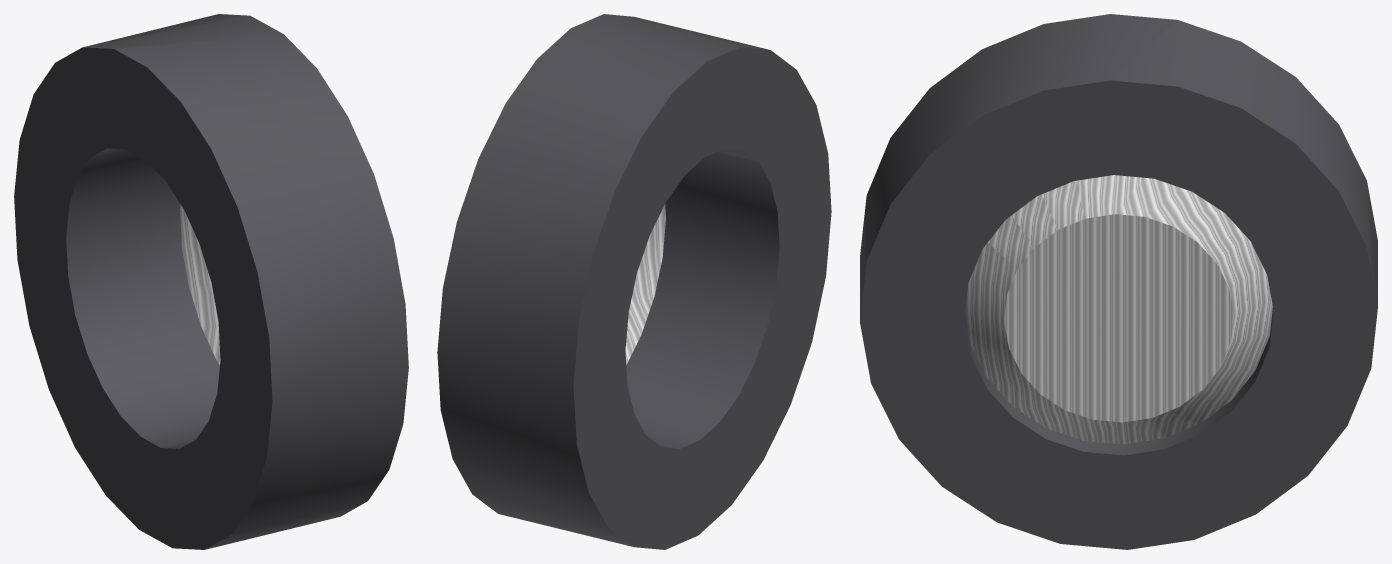
File: llanta2.obj
3 renders of one model, left to right at view 1: azimuth 30°, elevation 25°; view 2: azimuth 150°, elevation 25°; view 3: azimuth 270°, elevation 25°, orthographic.
Visible parts, largest first — view 1: tractor1:object_50; view 2: tractor1:object_50; view 3: tractor1:object_50.
Part boxes in pixels (bbox=[...]): tractor1:object_50: bbox=[14, 14, 408, 549]; tractor1:object_50: bbox=[437, 14, 831, 549]; tractor1:object_50: bbox=[860, 14, 1377, 549].
Size of the model in its own units: 0.00754 by 0.0237 by 0.0236.
Materials: 2 (2 with a texture image).
